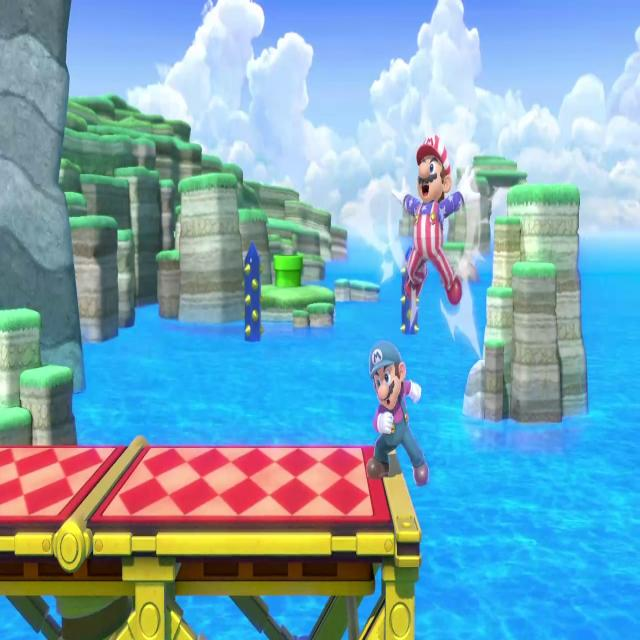Mario-Down Air: (386, 125, 474, 311)
Mario-Grab: (365, 335, 431, 491)
